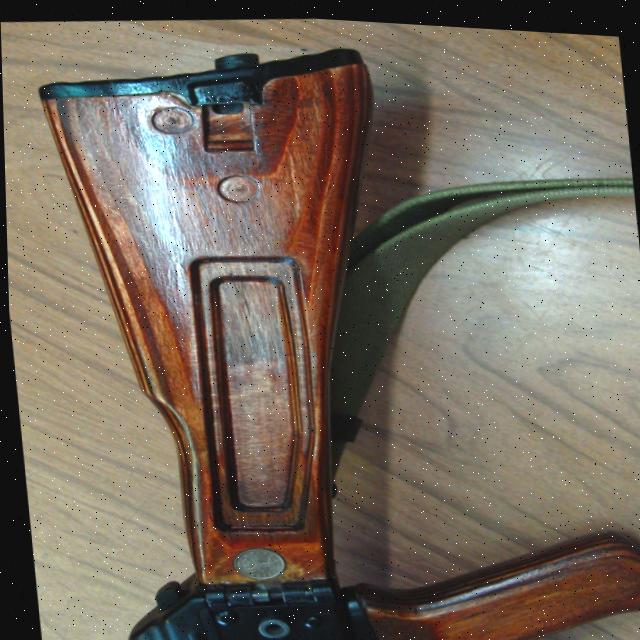firearm: (26, 6, 640, 640)
